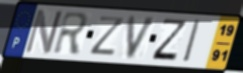I: (181, 18, 202, 65)
N: (22, 7, 65, 55)
R: (51, 11, 91, 57)
V: (126, 15, 159, 61)
Z: (149, 17, 189, 63), (89, 15, 128, 57)
